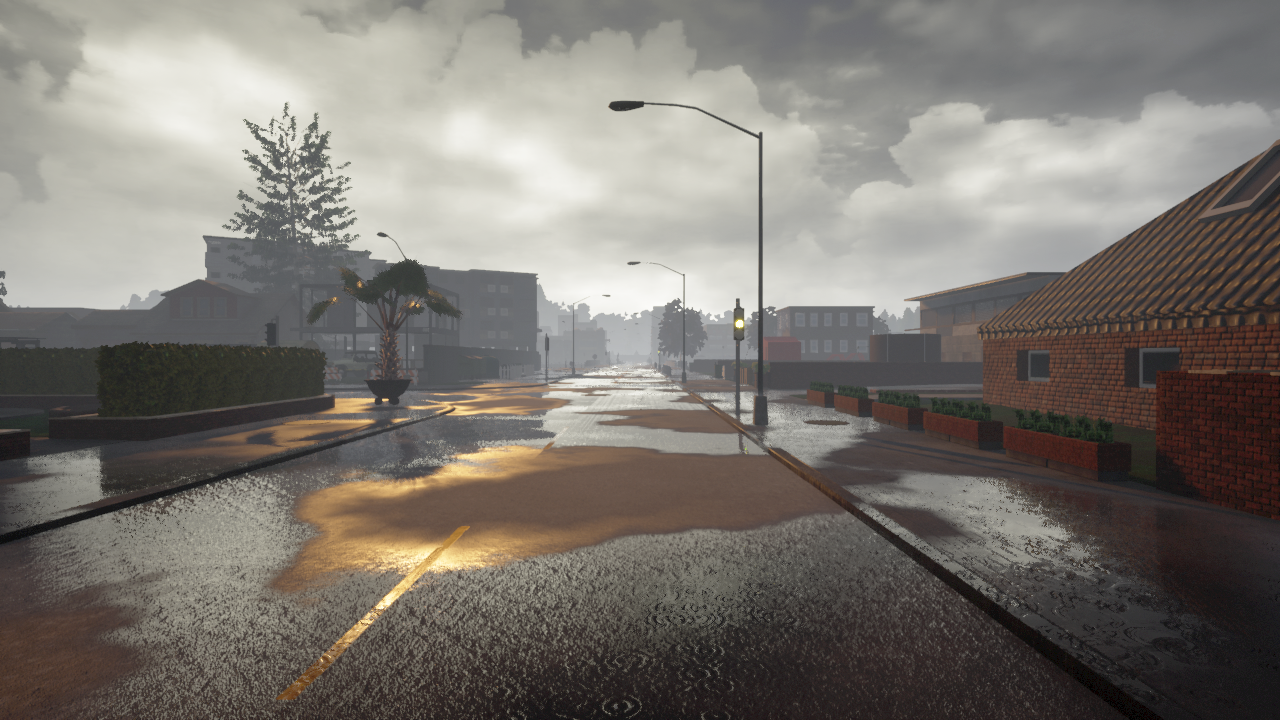yellow: (732, 306, 746, 344)
